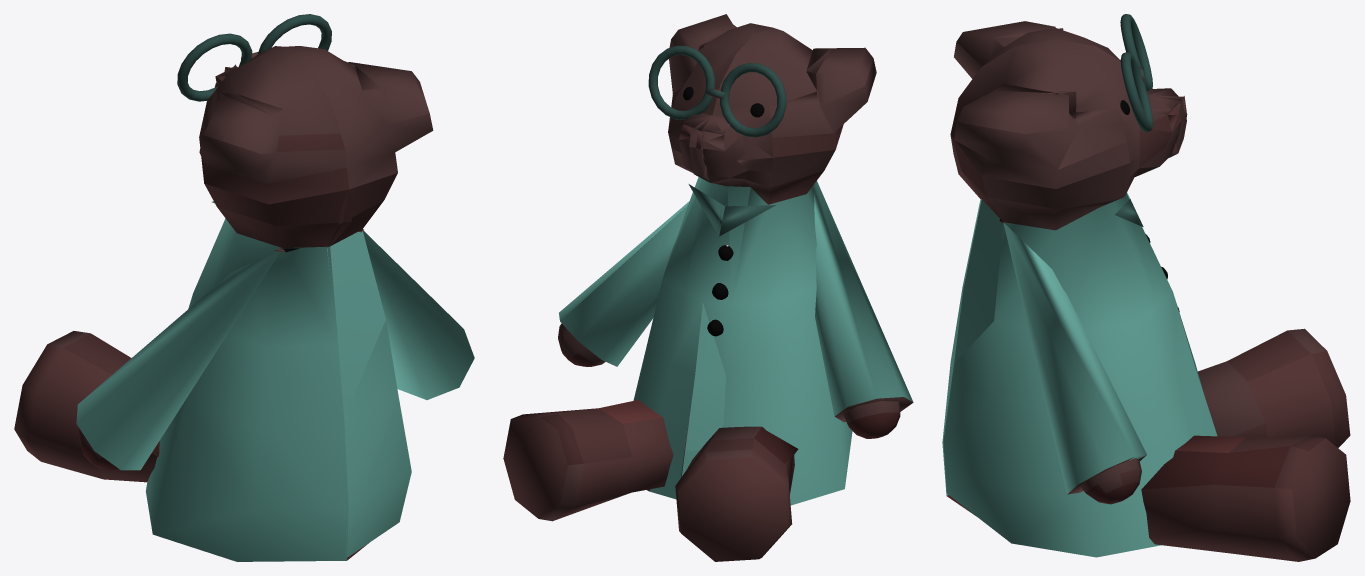
The model's file is Bear_clean.fbx.
3 views of the same model, side by side, from view 1: azimuth 30°, elevation 25°; view 2: azimuth 150°, elevation 25°; view 3: azimuth 270°, elevation 25° (orthographic). The views are drawn at different scales.
Parts seen in each view (by area): view 1: pCylinder26; view 2: pCylinder26; view 3: pCylinder26.
Part boxes in pixels (x1,y1,x2,y2): pCylinder26: (14,14,474,561); pCylinder26: (503,14,913,561); pCylinder26: (942,14,1350,561).
Bounding box in the file's own units: 0.9844 × 1.15 × 0.9104.
